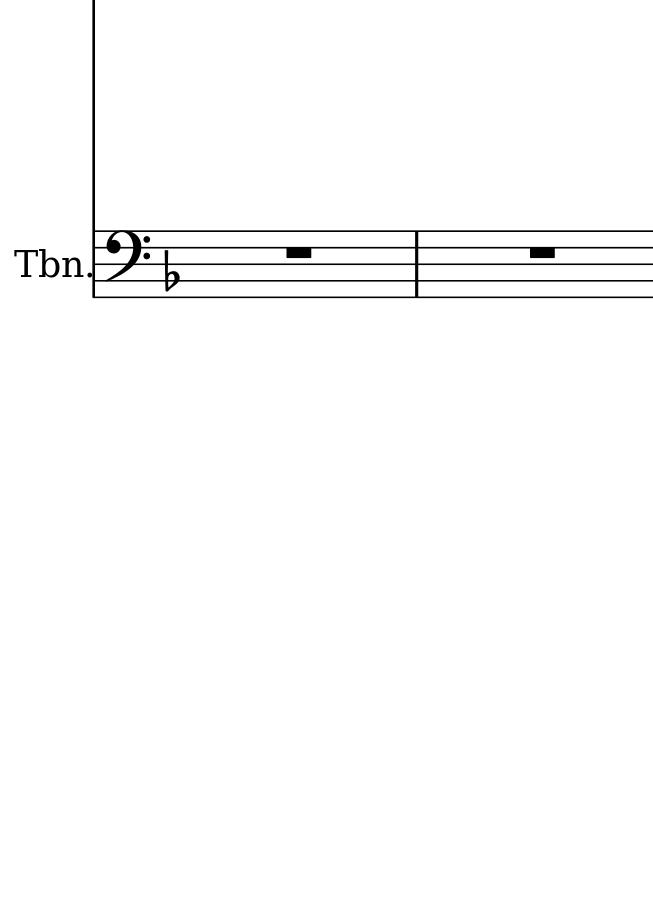Fclef: (102, 228, 152, 301)
Flat: (162, 249, 181, 294)
Rests1: (281, 243, 315, 262), (524, 244, 556, 262)
Single_barline: (408, 231, 425, 300), (87, 231, 103, 295)
Tbn: (9, 242, 85, 281)
